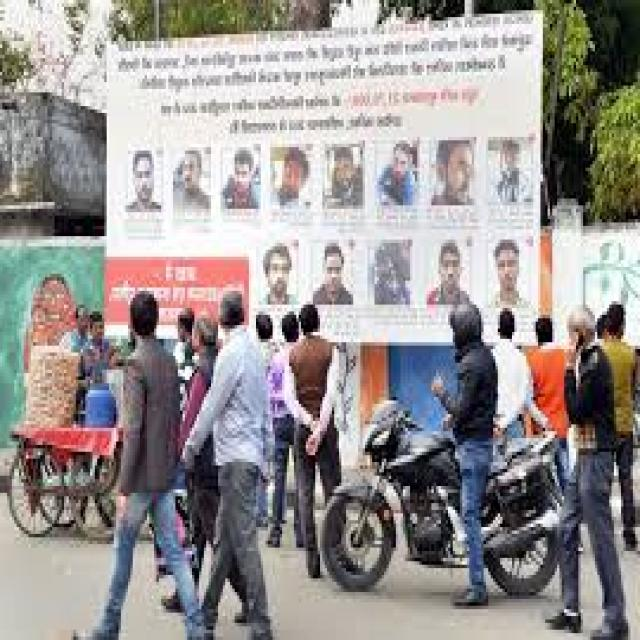Werbetafel frei: (101, 9, 543, 340)
